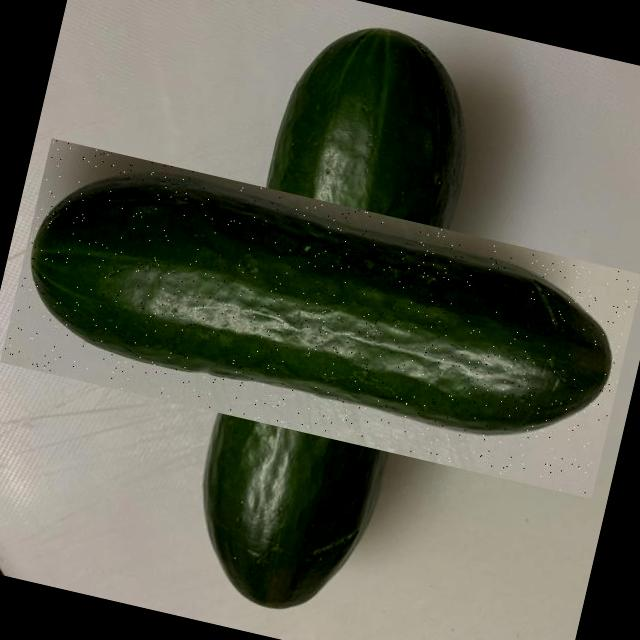Cucumber: (6, 152, 627, 467)
